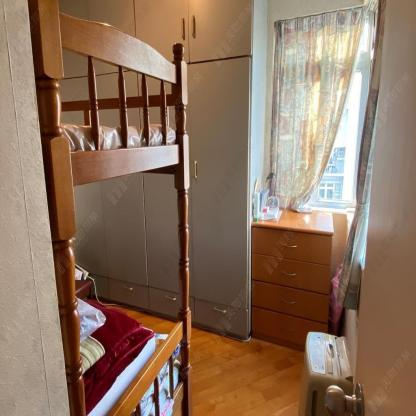Bed Frame: (23, 0, 213, 411)
Closet: (59, 0, 269, 341)
